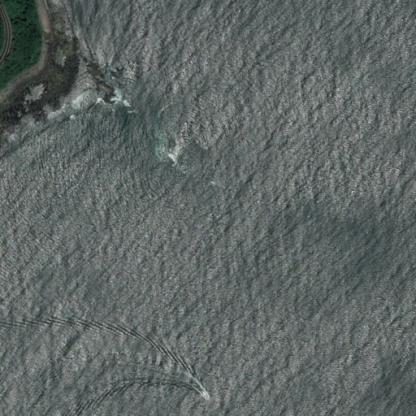ship: (192, 385, 215, 403)
